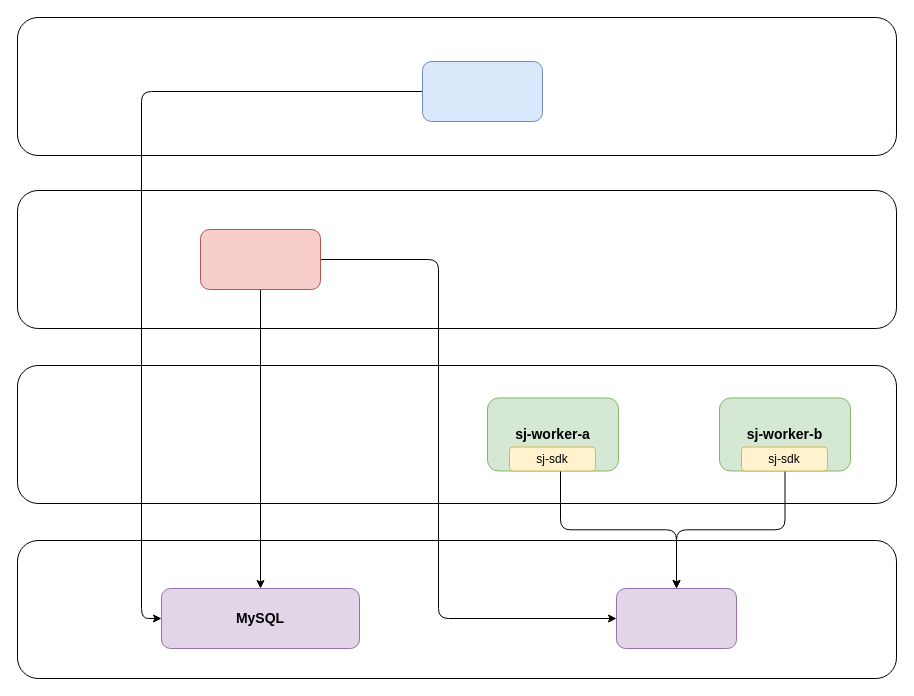
Image size: 914x696. Some labels were removed from this diagram. The shapes that lost their labels are listed below. From the top down, each one's centre as x and y in pixels, then its label:
At (x=482, y=91): "sj-admin".
At (x=260, y=259): "sj-server".
At (x=676, y=618): "RabbitMQ".
